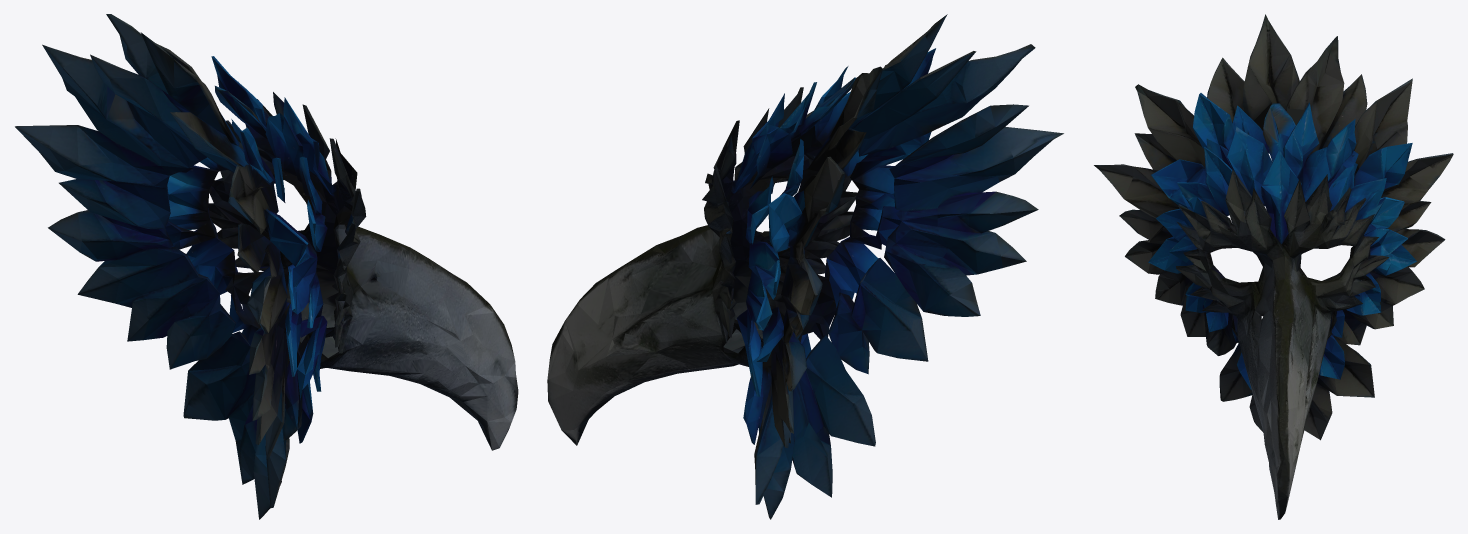
Rendered from crow.glb.
3 views of the same model, side by side, from view 1: azimuth 30°, elevation 25°; view 2: azimuth 150°, elevation 25°; view 3: azimuth 270°, elevation 25° (orthographic). The views are drawn at different scales.
Visible parts, largest first — view 1: tripo_node_416ecb0a-497a-46f7-ade8-7c850c070766; view 2: tripo_node_416ecb0a-497a-46f7-ade8-7c850c070766; view 3: tripo_node_416ecb0a-497a-46f7-ade8-7c850c070766.
Part boxes in pixels (x1,y1,x2,y2): tripo_node_416ecb0a-497a-46f7-ade8-7c850c070766: (15,14,518,519); tripo_node_416ecb0a-497a-46f7-ade8-7c850c070766: (547,14,1063,519); tripo_node_416ecb0a-497a-46f7-ade8-7c850c070766: (1094,14,1453,519).
Size of the model in its own units: 0.7854 by 1 by 0.8665.
1 material, 1 textured.
